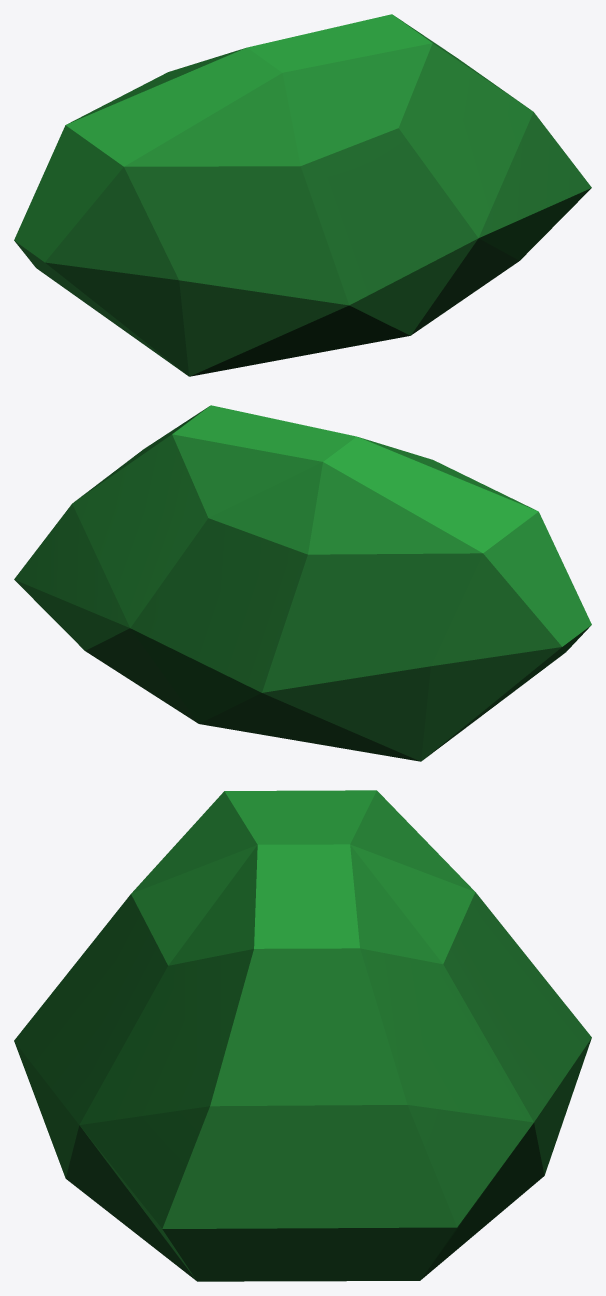
File: bush_6.fbx
The picture shows the model from 3 angles, top to bottom: view 1: azimuth 30°, elevation 25°; view 2: azimuth 150°, elevation 25°; view 3: azimuth 270°, elevation 25°; orthographic projection. The views are drawn at different scales.
Parts seen in each view (by area): view 1: bush_6; view 2: bush_6; view 3: bush_6.
Boxes of the visible parts, x1=… form: bush_6: x1=14, y1=14, x2=591, y2=376; bush_6: x1=14, y1=405, x2=591, y2=761; bush_6: x1=14, y1=790, x2=591, y2=1281.
Size of the model in its own units: 292 by 122 by 215.
